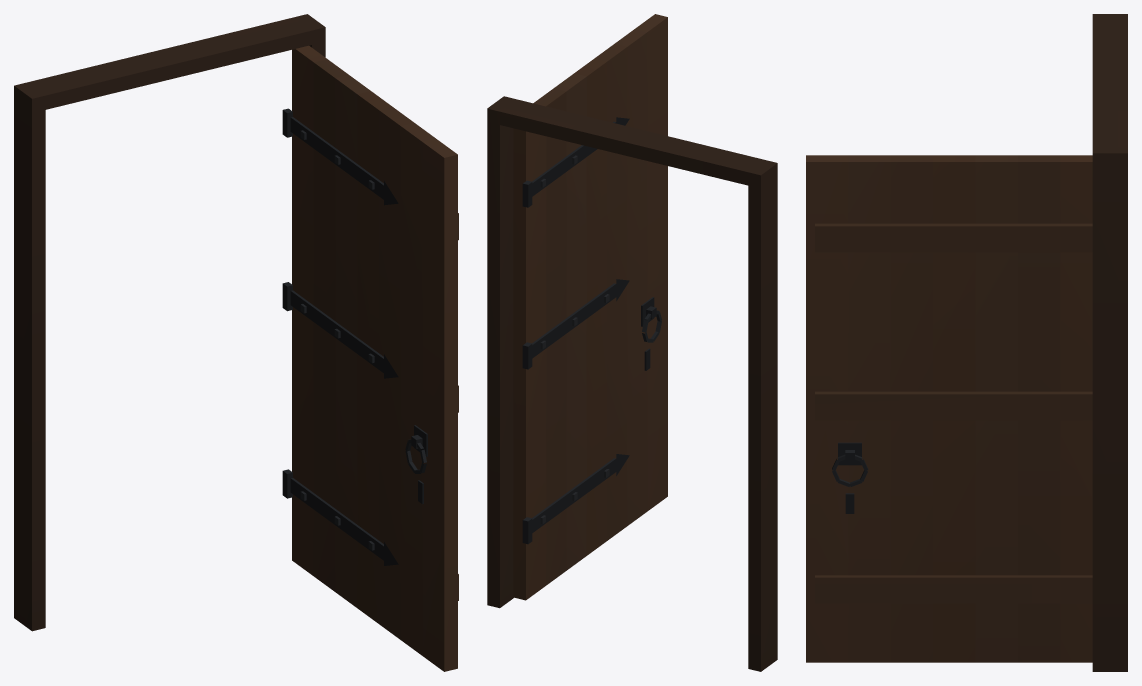
File: door.oak_slim_open_left.dark.glb
3 views of the same model, side by side, from view 1: azimuth 30°, elevation 25°; view 2: azimuth 150°, elevation 25°; view 3: azimuth 270°, elevation 25° (orthographic). The views are drawn at different scales.
Visible parts, largest first — view 1: door_oak_slim_open_left_dark; view 2: door_oak_slim_open_left_dark; view 3: door_oak_slim_open_left_dark.
Boxes of the visible parts, x1=… form: door_oak_slim_open_left_dark: x1=14, y1=14, x2=458, y2=671; door_oak_slim_open_left_dark: x1=487, y1=14, x2=777, y2=671; door_oak_slim_open_left_dark: x1=806, y1=14, x2=1127, y2=671.
Size of what is drawn, in the model's own units: 1.5 by 2.6 by 1.46.
